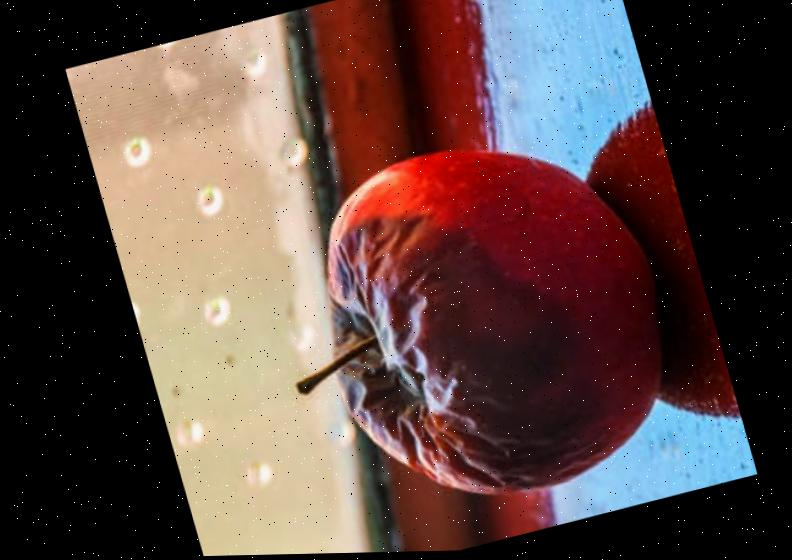ROT: (205, 70, 702, 556)
